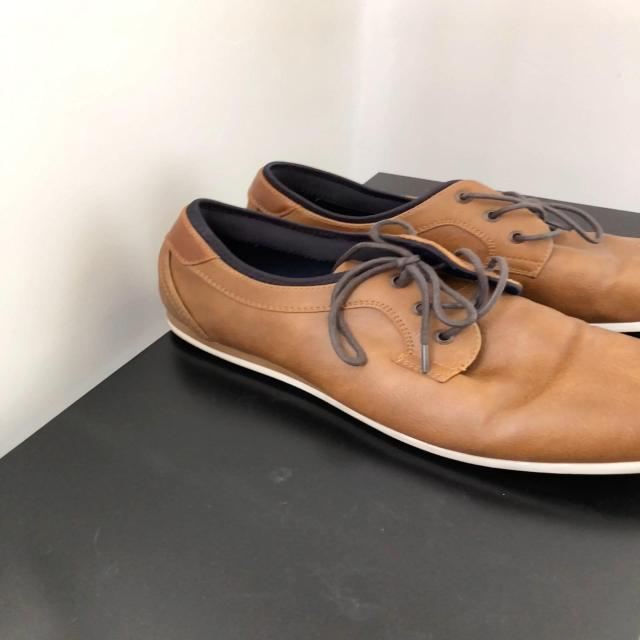shoe: (162, 206, 637, 469)
